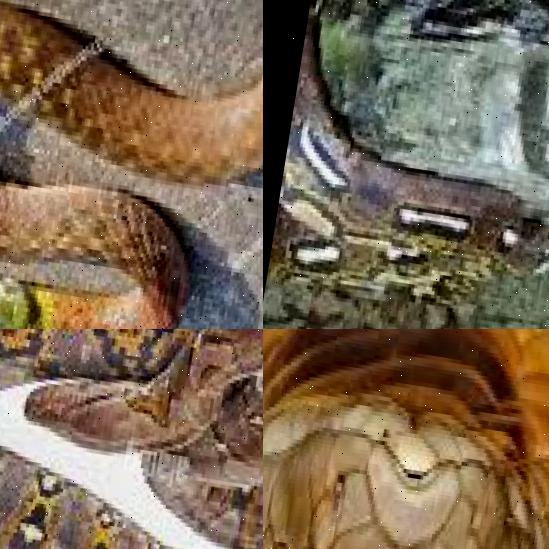snake: (266, 0, 549, 329), (0, 0, 263, 329), (263, 329, 549, 549), (0, 329, 263, 549)
